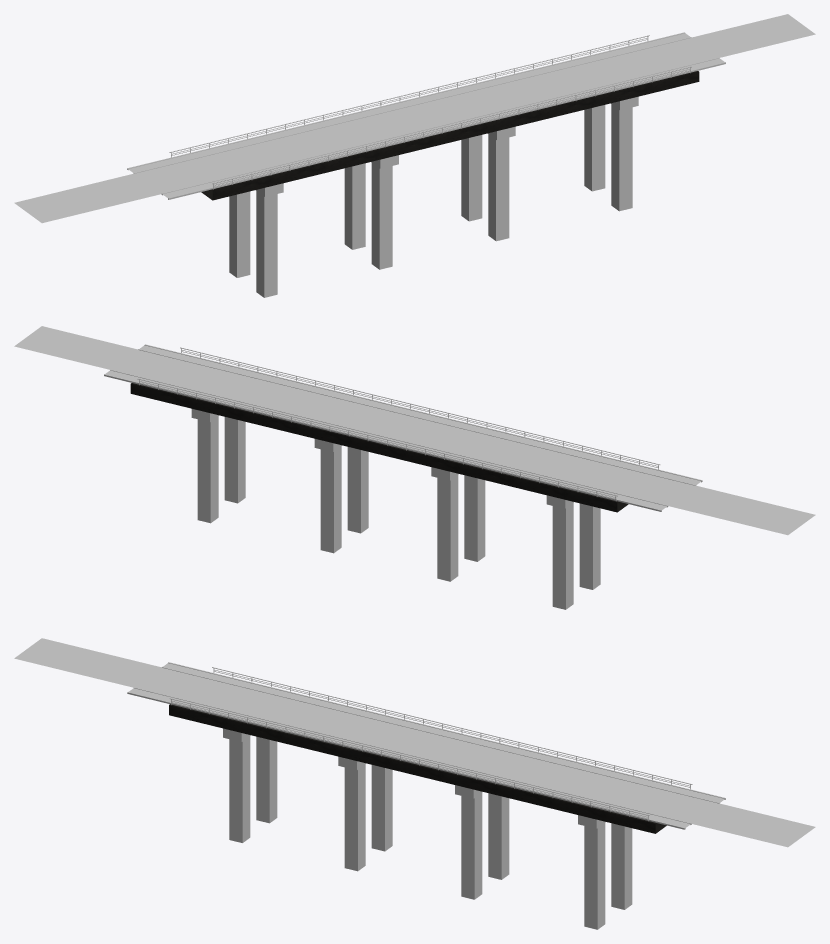
File: Bridge05.fbx
The picture shows the model from 3 angles, top to bottom: view 1: azimuth 30°, elevation 25°; view 2: azimuth 150°, elevation 25°; view 3: azimuth 330°, elevation 25°; orthographic projection.
Parts seen in each view (by area): view 1: Bridge05; view 2: Bridge05; view 3: Bridge05.
Part boxes in pixels (left/top/right/bottom): Bridge05: left=14, top=14, right=815, bottom=297; Bridge05: left=14, top=326, right=815, bottom=609; Bridge05: left=14, top=638, right=815, bottom=929.
Bounding box in the file's own units: 16009 × 2584 × 1562.
